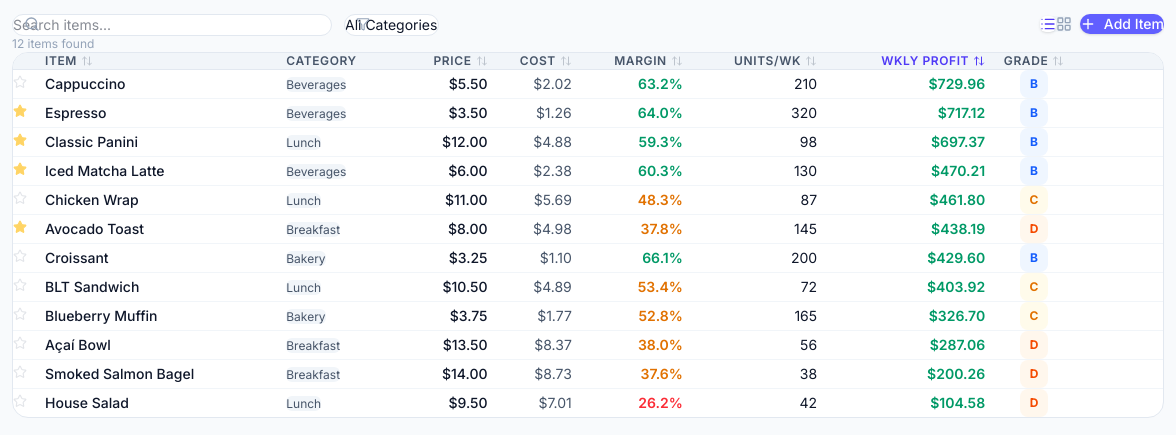
Test: MenuItems › shows no results message for empty search
In the field with placeholder "Search items...": (172, 25) x1=12 y1=14 x2=332 y2=36, type "xyznoexist"
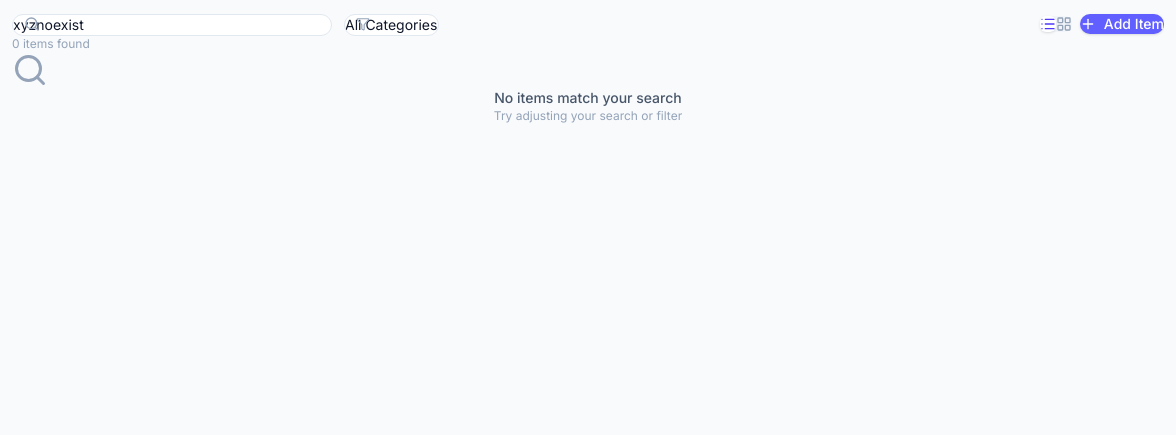
Expected: the text "No items match your search" is shown, x1=494 y1=89 x2=682 y2=106
